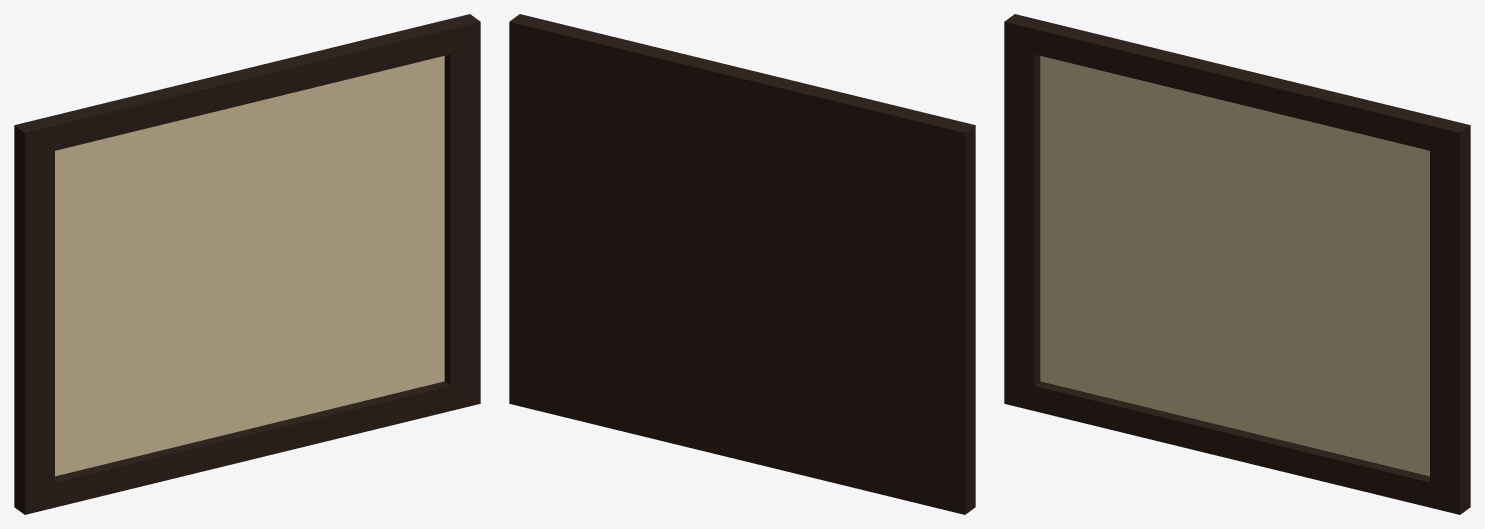
The model's file is art-frame.glb.
The picture shows the model from 3 angles, left to right: view 1: azimuth 30°, elevation 25°; view 2: azimuth 150°, elevation 25°; view 3: azimuth 330°, elevation 25°; orthographic projection.
Visible parts, largest first — view 1: FrameBacking, FrameBorder; view 2: FrameBorder; view 3: FrameBacking, FrameBorder.
Part boxes in pixels (x1,y1,x2,y2): FrameBacking: [55, 56, 444, 476]; FrameBorder: [14, 14, 480, 514]; FrameBorder: [509, 14, 975, 514]; FrameBacking: [1040, 56, 1429, 476]; FrameBorder: [1004, 14, 1470, 514].
Size of the model in its own units: 3.59 by 2.87 by 0.1461.
Materials: 1 (1 with a texture image).
